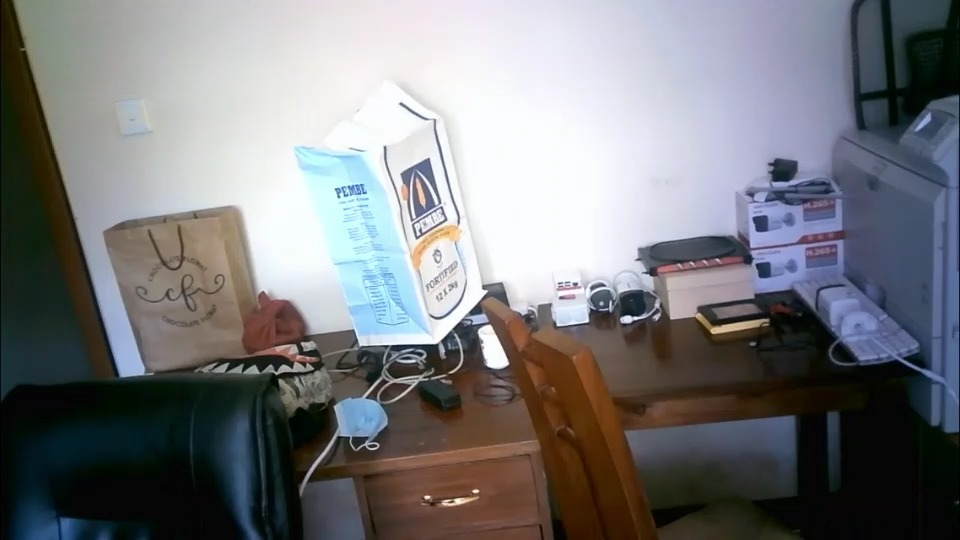wheat_flour_blue_label: (294, 82, 484, 343)
